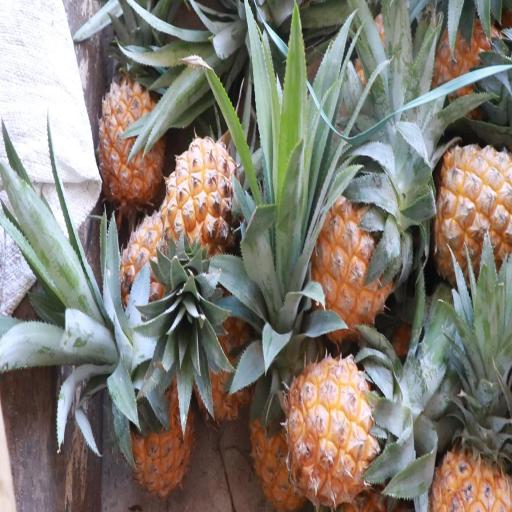Pineapple - v8 v1: (283, 341, 388, 512), (298, 182, 392, 350), (112, 317, 196, 503), (423, 359, 512, 512), (424, 138, 512, 289), (158, 134, 246, 271), (95, 71, 170, 213)
